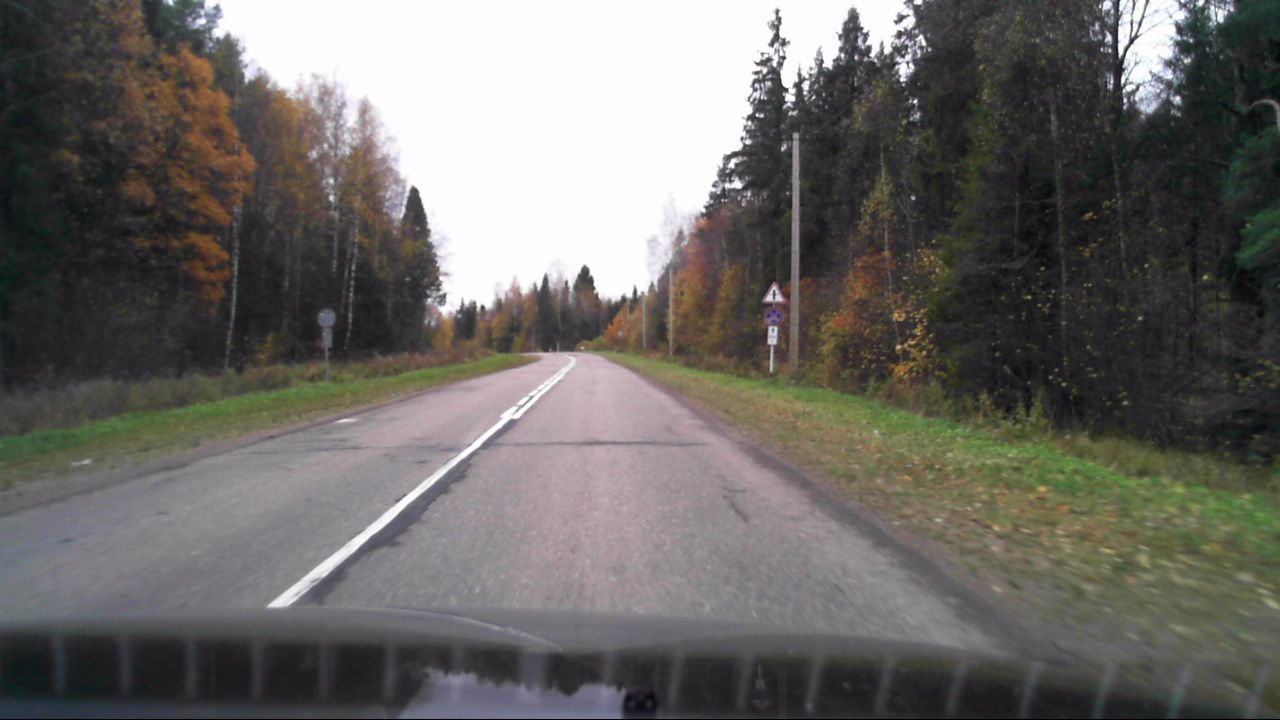No Parking: (763, 308, 782, 325)
